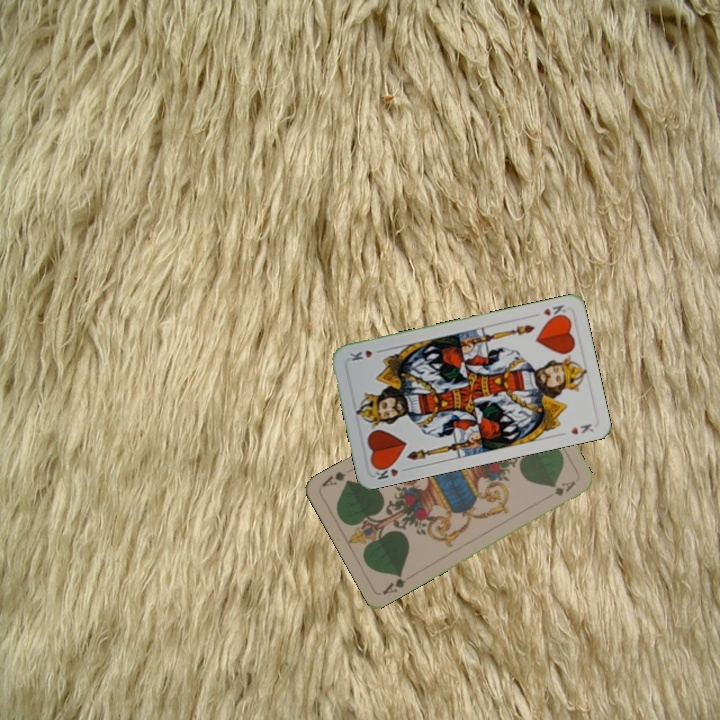GA: (378, 569, 408, 597)
HK: (371, 460, 411, 482), (539, 301, 569, 322)
